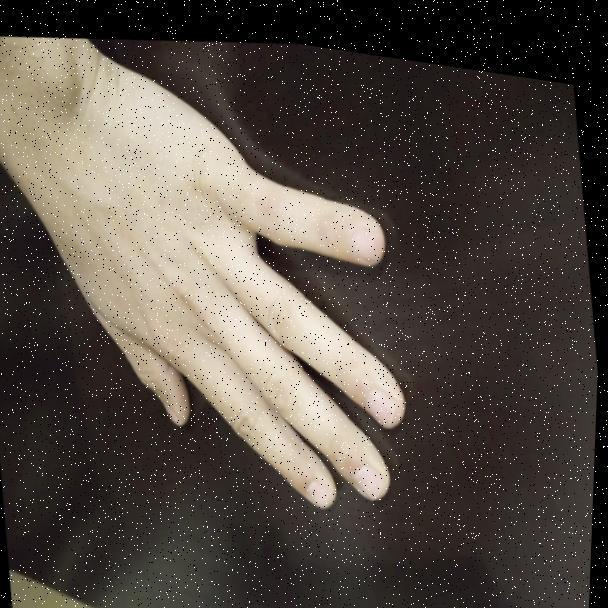five: (34, 18, 443, 569)
